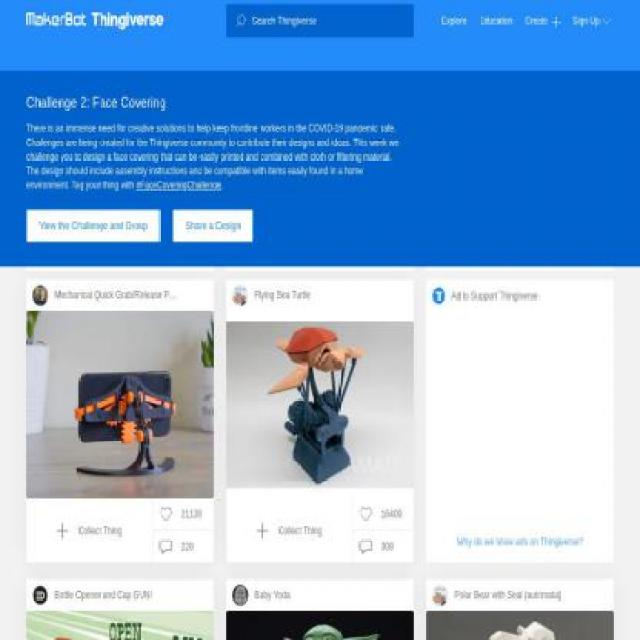button: (26, 311, 214, 498), (226, 311, 414, 498), (26, 611, 214, 638), (226, 611, 414, 638), (426, 611, 614, 638), (26, 209, 168, 243), (26, 246, 214, 271), (226, 246, 414, 271), (426, 246, 614, 271), (56, 499, 122, 563), (256, 499, 322, 563), (26, 11, 165, 35), (172, 209, 260, 243), (572, 4, 614, 38), (525, 4, 561, 38), (442, 4, 466, 38), (158, 506, 202, 522), (358, 506, 402, 522), (158, 538, 194, 556), (358, 538, 394, 556), (32, 285, 48, 306), (232, 285, 248, 306), (32, 585, 48, 606), (232, 585, 248, 606), (432, 585, 448, 606)
field: (246, 15, 414, 27)
